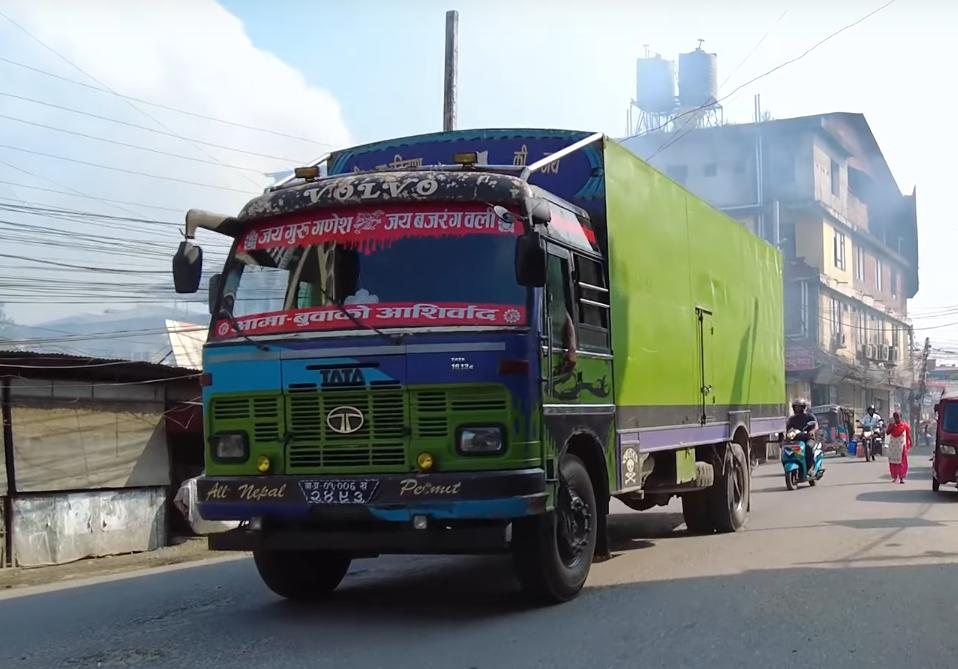auto_rickshaw: (931, 393, 958, 497)
bike: (851, 413, 884, 464)
scooter: (774, 421, 827, 490)
truck: (168, 126, 789, 603)
